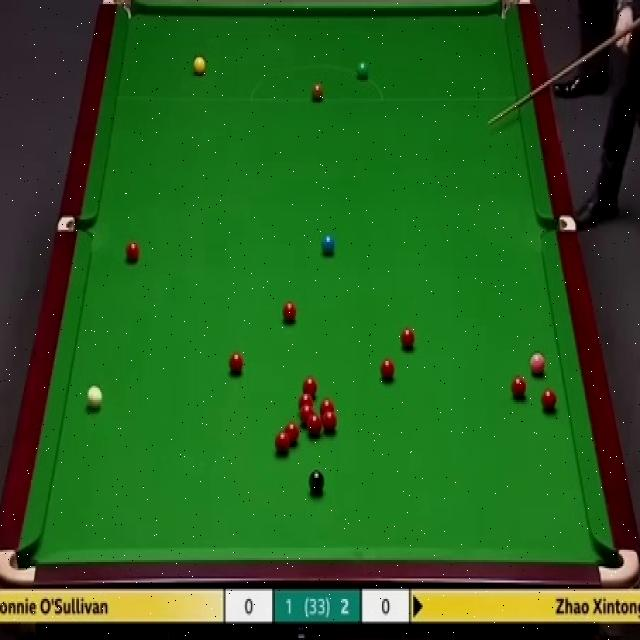black-ball: (308, 470, 325, 492)
blue-ball: (320, 234, 337, 256)
brown-ball: (310, 82, 324, 102)
green-ball: (357, 59, 369, 80)
pink-ball: (529, 352, 547, 377)
red-ball: (511, 373, 527, 400), (540, 388, 557, 412), (125, 240, 141, 264), (282, 300, 297, 325), (399, 326, 415, 349), (276, 429, 290, 455), (228, 351, 244, 373), (323, 409, 337, 434), (285, 421, 299, 446), (302, 376, 317, 398), (380, 358, 394, 380), (300, 404, 314, 426), (308, 414, 322, 436), (298, 393, 314, 411), (319, 397, 336, 413)
white-ball: (85, 383, 103, 411)
yellow-ball: (193, 56, 205, 78)
